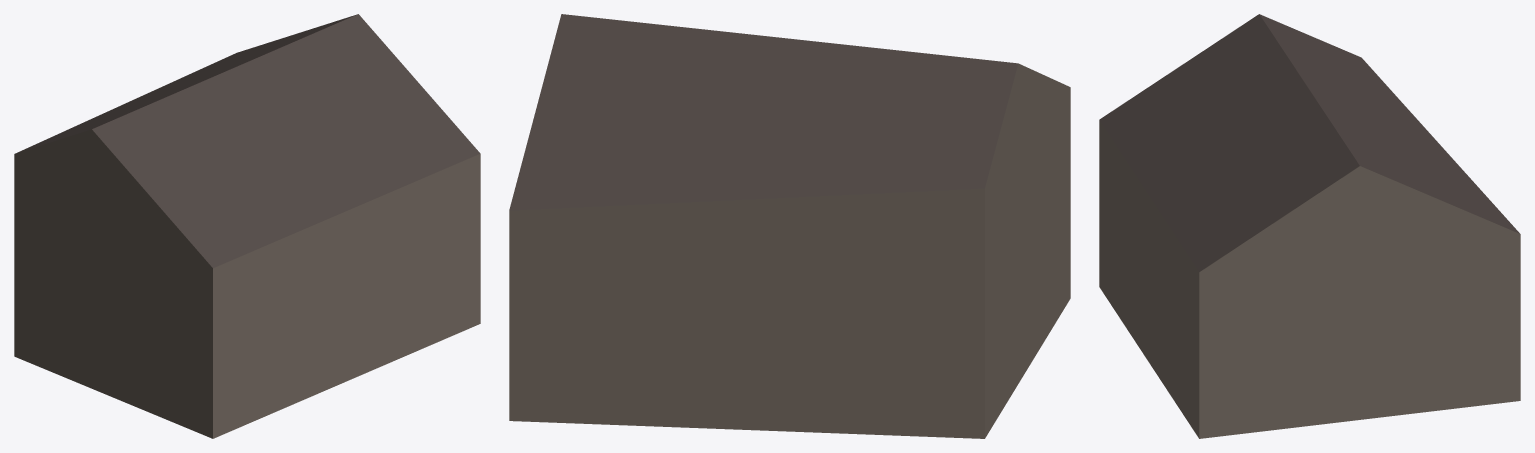
The picture shows the model from 3 angles, left to right: view 1: azimuth 30°, elevation 25°; view 2: azimuth 150°, elevation 25°; view 3: azimuth 270°, elevation 25°; orthographic projection. The views are drawn at different scales.
Visible parts, largest first — view 1: HP-w761417839; view 2: HP-w761417839; view 3: HP-w761417839.
Boxes of the visible parts, bbox=[...] form: HP-w761417839: bbox=[14, 14, 480, 438]; HP-w761417839: bbox=[509, 14, 1070, 438]; HP-w761417839: bbox=[1099, 14, 1520, 438].
Bounding box in the file's own units: 21.21 × 13.72 × 20.64.
